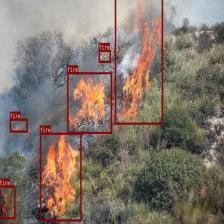fire: (114, 0, 162, 125), (40, 132, 81, 220), (66, 72, 111, 133), (0, 186, 15, 218), (9, 119, 28, 132), (98, 50, 110, 62)
